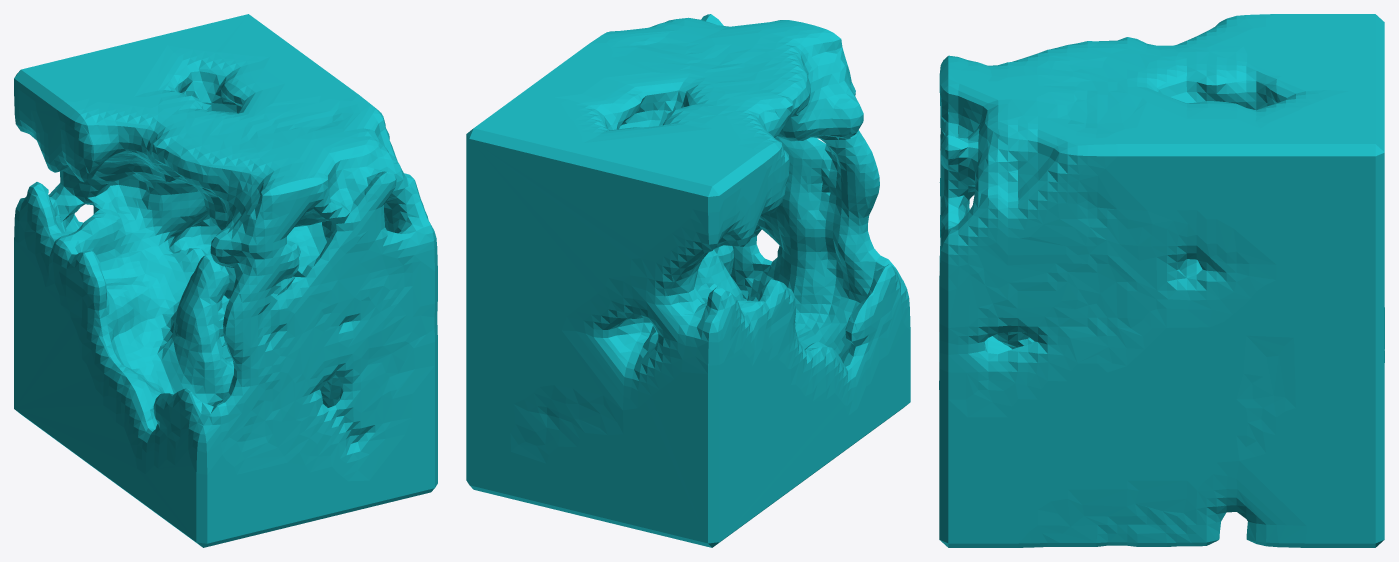
3 renders of one model, left to right at view 1: azimuth 30°, elevation 25°; view 2: azimuth 150°, elevation 25°; view 3: azimuth 270°, elevation 25°, orthographic. The views are drawn at different scales.
Parts seen in each view (by area): view 1: Liquid_Domain; view 2: Liquid_Domain; view 3: Liquid_Domain.
Boxes of the visible parts, left/top/right/bottom form: Liquid_Domain: left=14, top=14, right=437, bottom=547; Liquid_Domain: left=466, top=14, right=910, bottom=547; Liquid_Domain: left=939, top=14, right=1384, bottom=547.
Bounding box in the file's own units: 79.11 × 108 × 108.
